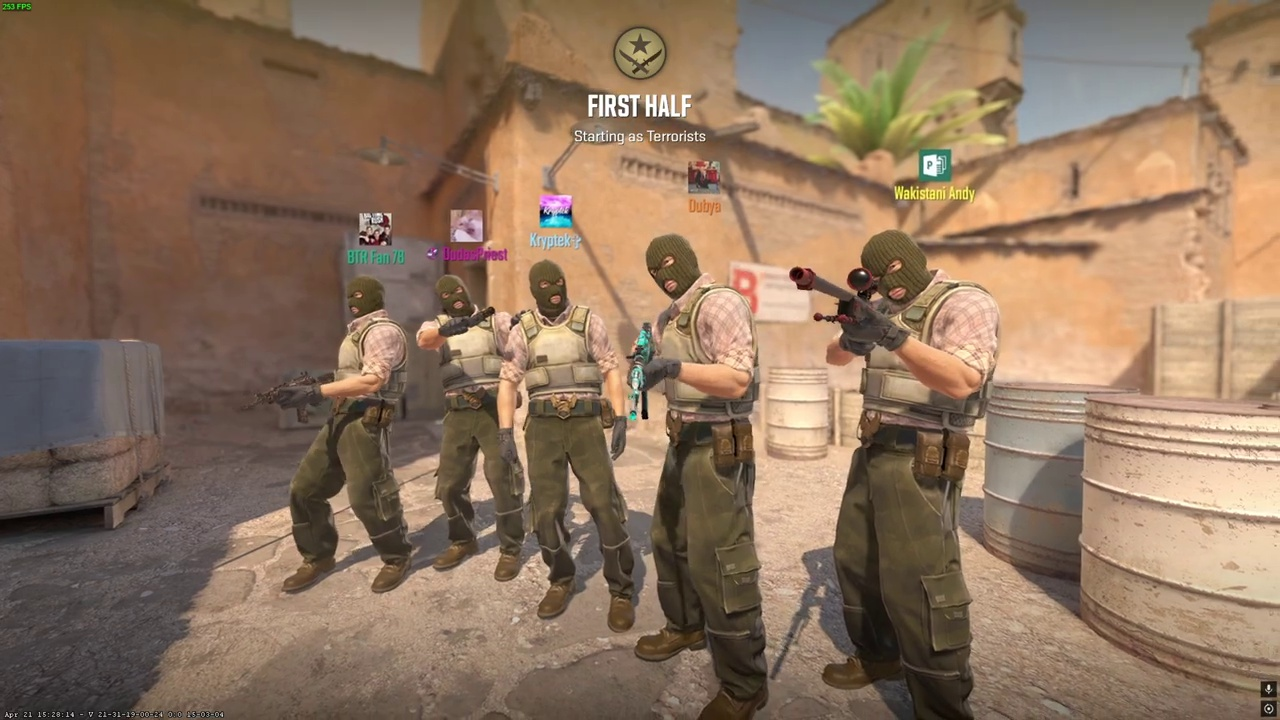Terrorist: (811, 229, 999, 720), (623, 230, 772, 720), (278, 272, 422, 594), (515, 257, 633, 636), (420, 273, 525, 584)
